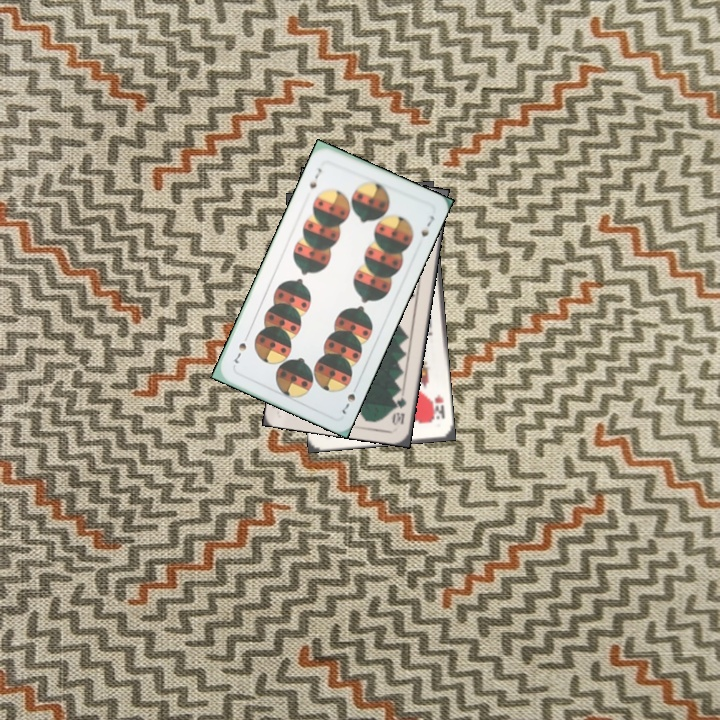G10: (388, 388, 409, 428)
HK: (428, 390, 448, 422)
S7: (338, 380, 361, 417), (305, 164, 324, 191)
